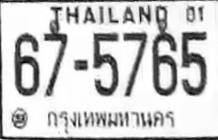5: (180, 30, 208, 96), (92, 32, 118, 96)
6: (152, 30, 178, 96), (14, 32, 40, 96)
7: (43, 32, 69, 97), (122, 31, 147, 96)
BKK: (45, 106, 179, 136)
